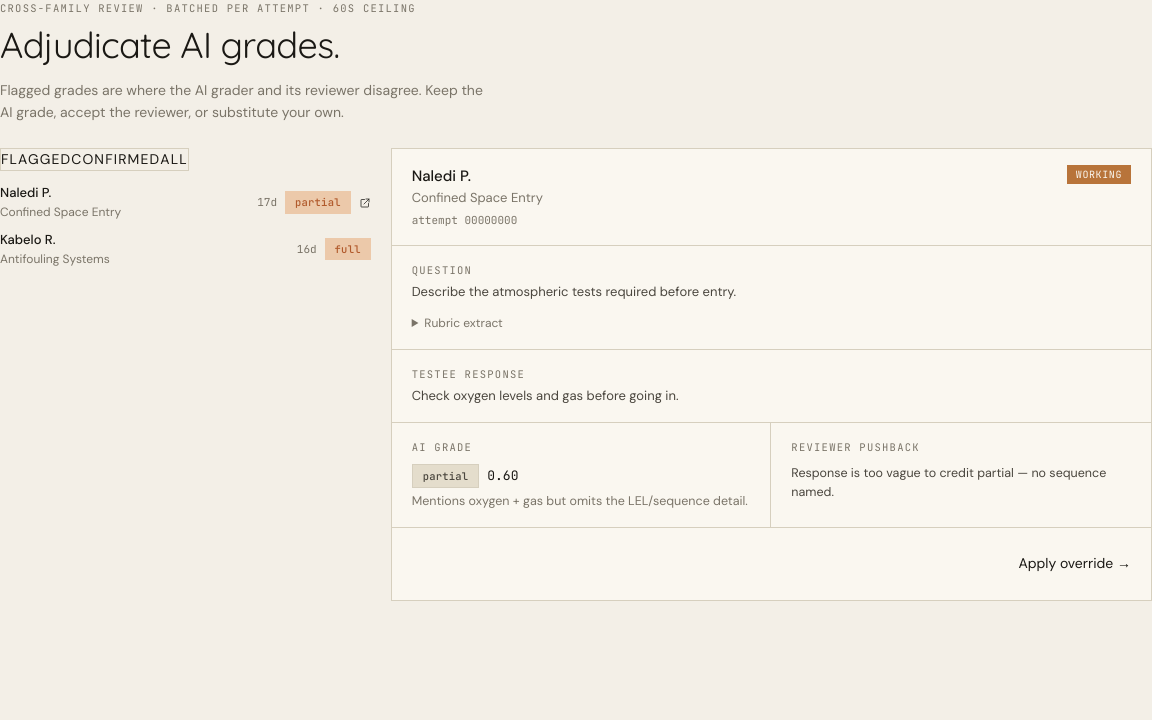
Scenario: grade-review queue — detail + override › keep AI grade: resolves and closes the drawer
Expected: the element with test id "review-detail" is shown, [391, 148, 1151, 601]
Click the button with test id "review-apply-override": x=1075, y=564 [1018, 544, 1131, 584]
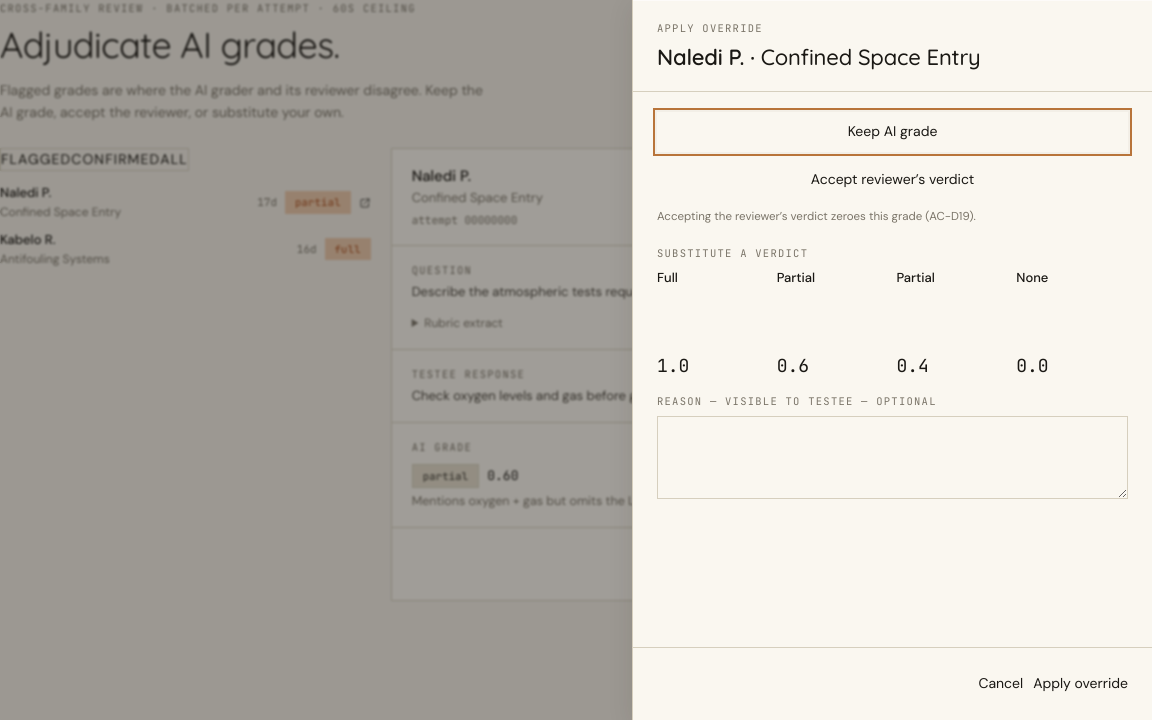
Expected: the form with test id "override-substitute-form" is shown, [657, 246, 1128, 506]
Click the button with test id "override-keep-ai": x=892, y=132 [657, 112, 1128, 152]
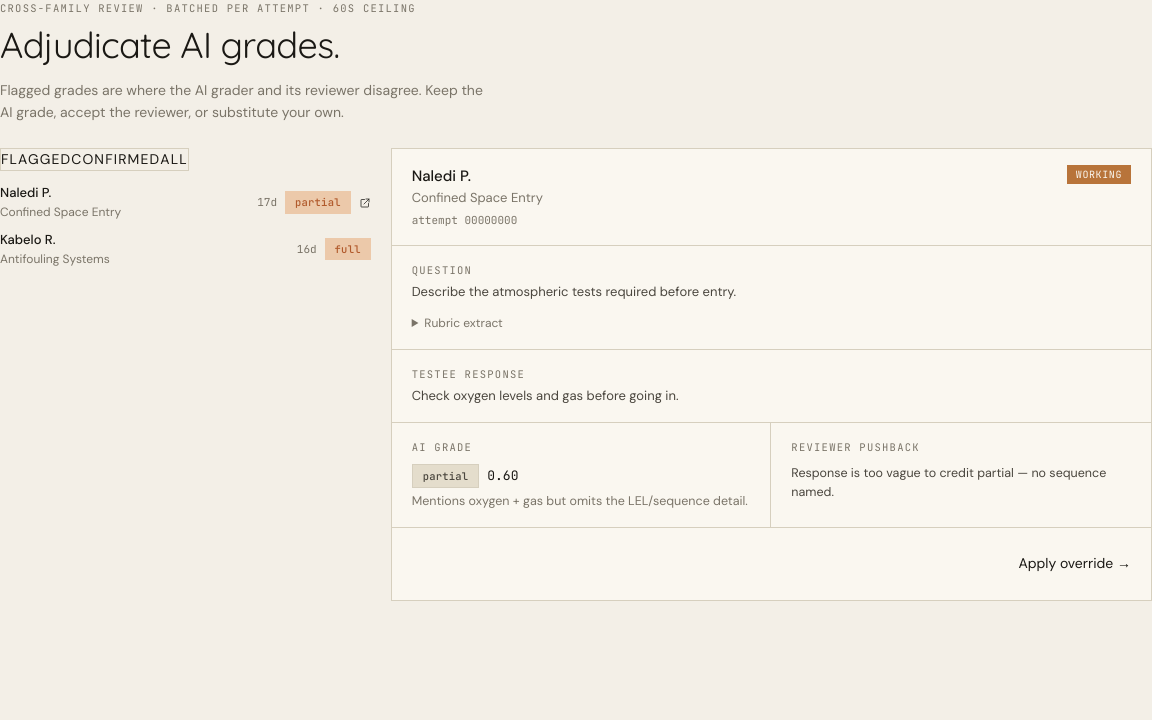
Expected: the form with test id "override-substitute-form" is gone
